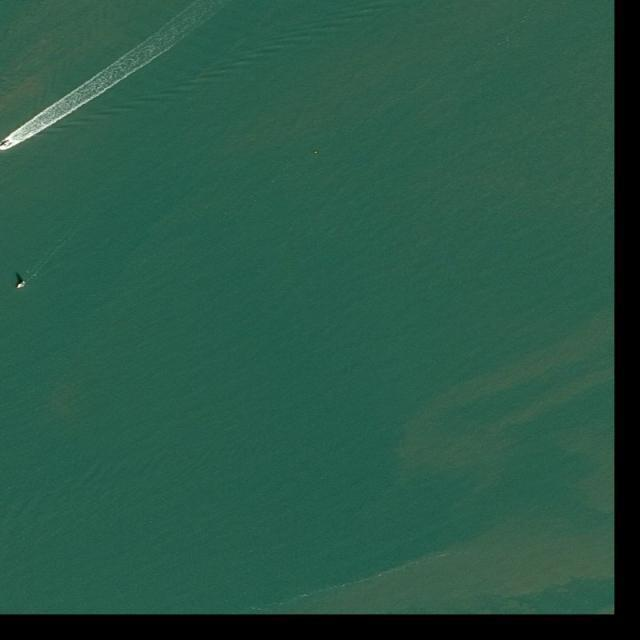ship: (0, 140, 12, 151), (16, 280, 28, 290)
